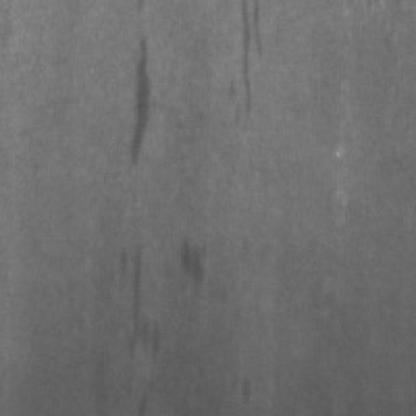inclusion: (108, 237, 160, 366), (119, 27, 162, 173), (227, 0, 270, 129), (173, 229, 210, 293)
